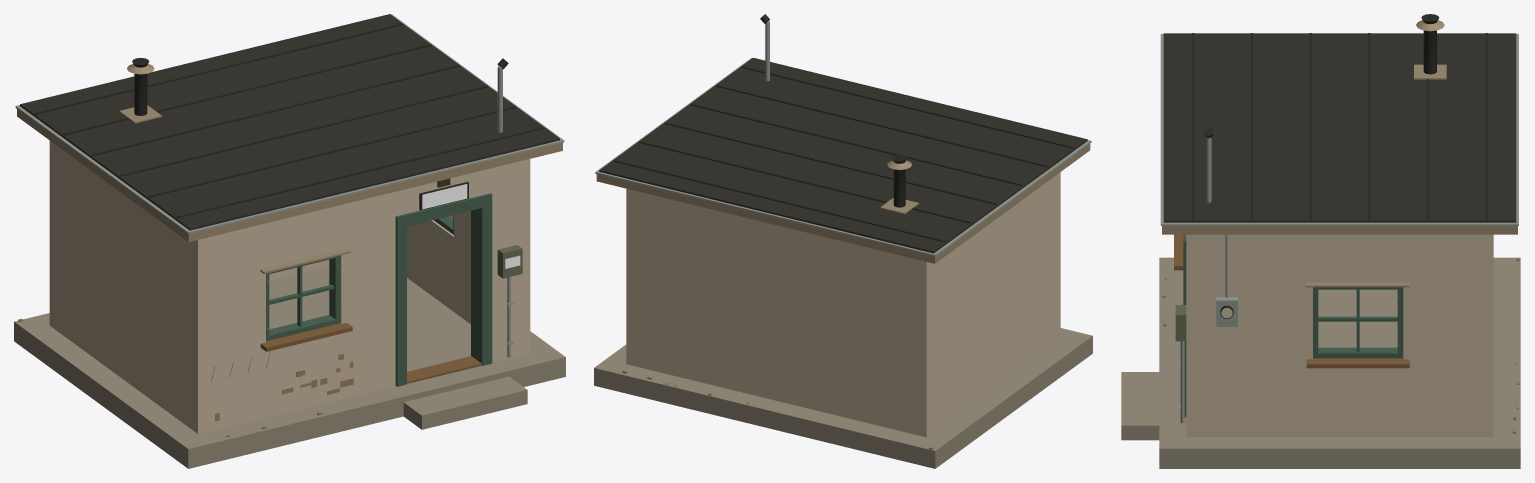
File: SM_FieldStation_Hut_Shell_LOD1.fbx
3 views of the same model, side by side, from view 1: azimuth 30°, elevation 25°; view 2: azimuth 150°, elevation 25°; view 3: azimuth 270°, elevation 25° (orthographic). The views are drawn at different scales.
Parts seen in each view (by area): view 1: SM_FieldStation_Hut_Shell_LOD1; view 2: SM_FieldStation_Hut_Shell_LOD1; view 3: SM_FieldStation_Hut_Shell_LOD1.
Part boxes in pixels (box(x1,y1,x2,y2)): SM_FieldStation_Hut_Shell_LOD1: box(14, 14, 565, 468); SM_FieldStation_Hut_Shell_LOD1: box(594, 14, 1092, 468); SM_FieldStation_Hut_Shell_LOD1: box(1121, 14, 1520, 468).
Size of the model in its own units: 5 by 4.42 by 3.92.
